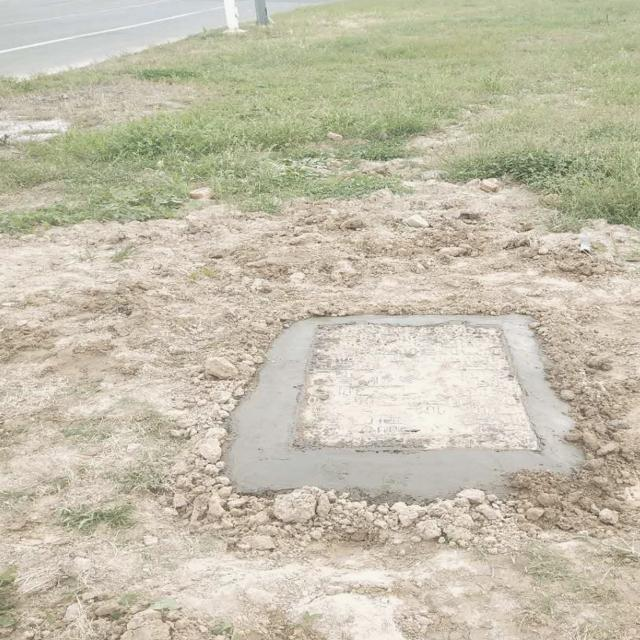good: (282, 304, 550, 469)
